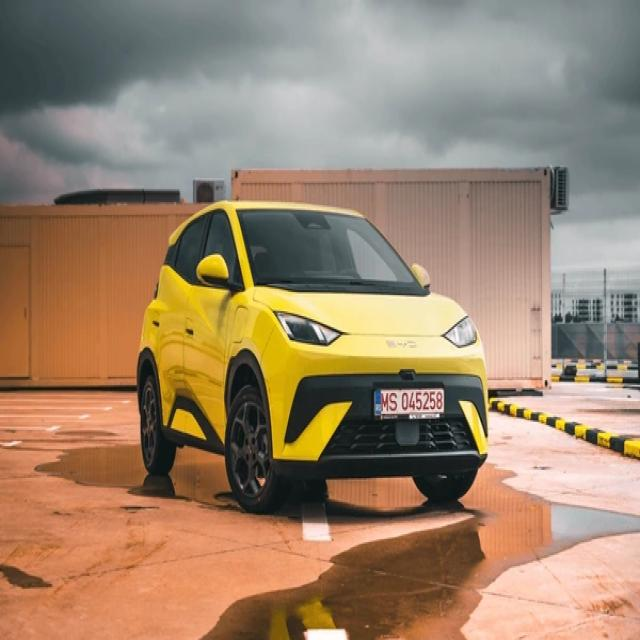byd: (384, 336, 421, 355)
